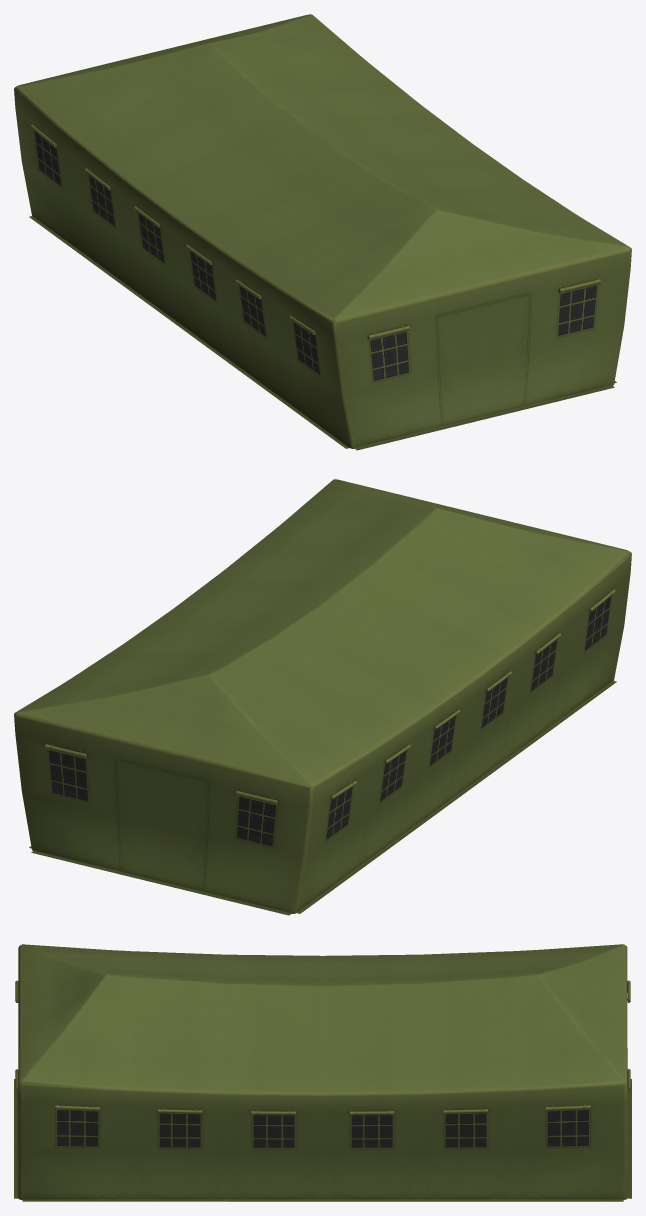
Rendered from Tent02_4.FBX.
The picture shows the model from 3 angles, top to bottom: view 1: azimuth 30°, elevation 25°; view 2: azimuth 150°, elevation 25°; view 3: azimuth 270°, elevation 25°; orthographic projection. The views are drawn at different scales.
Parts seen in each view (by area): view 1: Tent02_4; view 2: Tent02_4; view 3: Tent02_4.
Boxes of the visible parts, <box> form: Tent02_4: <box>14,14,631,450</box>; Tent02_4: <box>14,479,631,915</box>; Tent02_4: <box>14,944,631,1201</box>.
Size of what is drawn, in the model's own units: 8.08 by 4.41 by 15.05.
